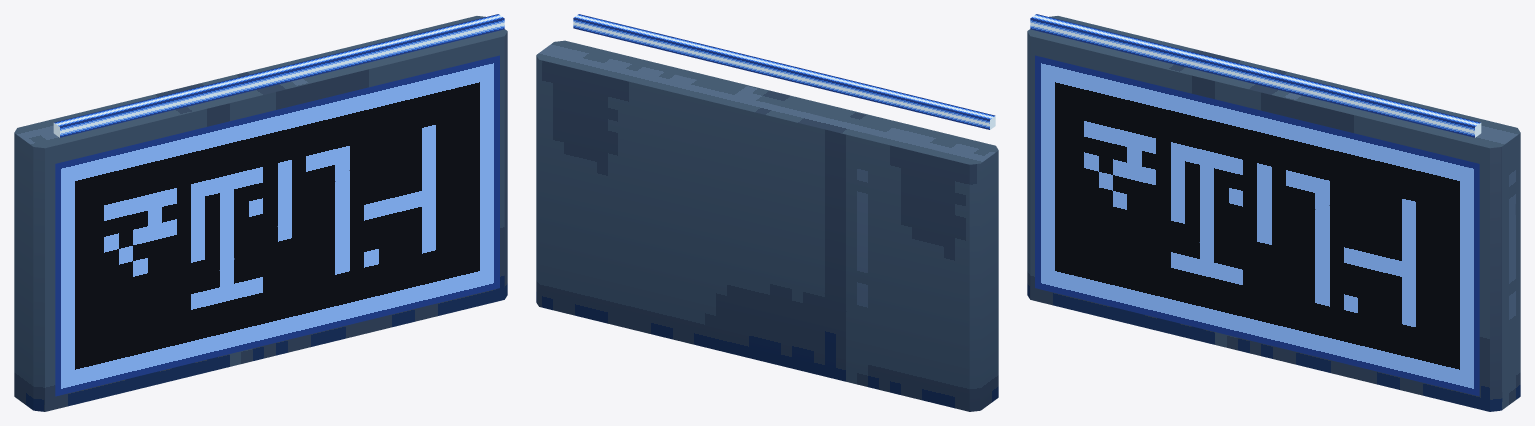
File: cysign.frame__magenta.glb
3 renders of one model, left to right at view 1: azimuth 30°, elevation 25°; view 2: azimuth 150°, elevation 25°; view 3: azimuth 330°, elevation 25°, orthographic. The views are drawn at different scales.
Visible parts, largest first — view 1: kit_card_face, kit_box, kit_neon; view 2: kit_box, kit_neon; view 3: kit_card_face, kit_box, kit_neon.
Part boxes in pixels (x1,y1,x2,y2): kit_card_face: (55,55,499,396); kit_box: (14,16,507,411); kit_neon: (53,14,504,137); kit_box: (536,40,998,411); kit_neon: (573,14,995,129); kit_card_face: (1035,55,1479,396); kit_box: (1027,16,1520,411); kit_neon: (1030,14,1481,137).
Bounding box in the file's own units: 2.56 × 1.49 × 0.3283.
3 materials, 3 textured.
